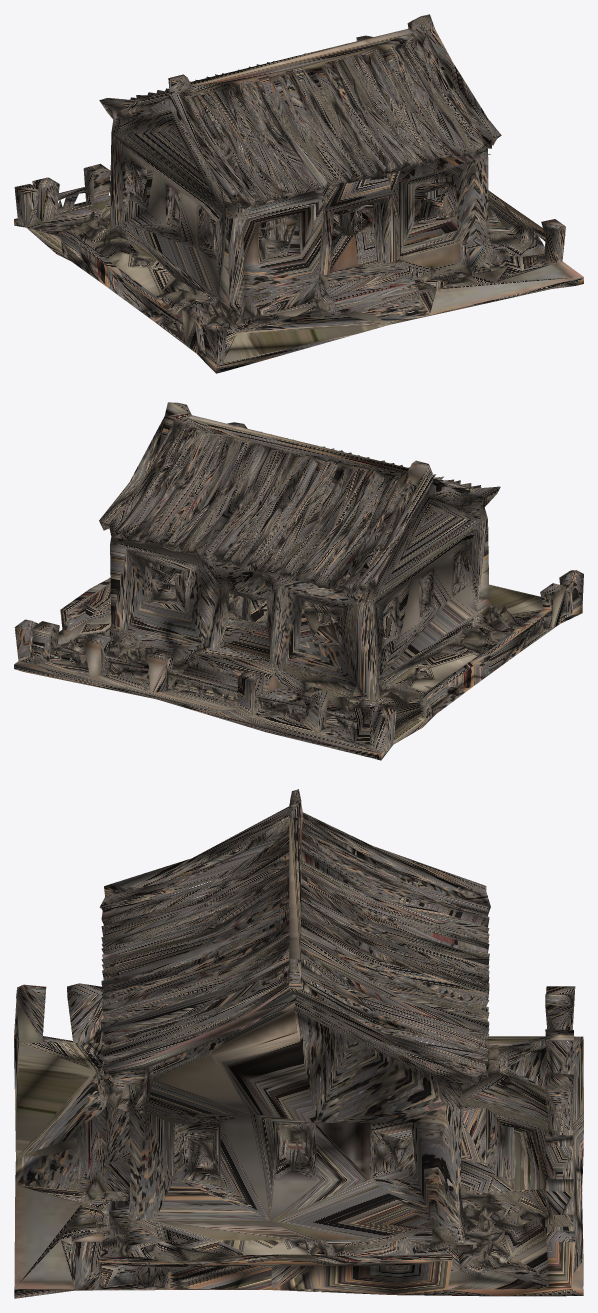
The model's file is bq_bookstore.lod.glb.
3 views of the same model, one above another, from view 1: azimuth 30°, elevation 25°; view 2: azimuth 150°, elevation 25°; view 3: azimuth 270°, elevation 25° (orthographic). The views are drawn at different scales.
Bounding box in the file's own units: 1.9 × 1.02 × 1.79.
Materials: 1 (1 with a texture image).
